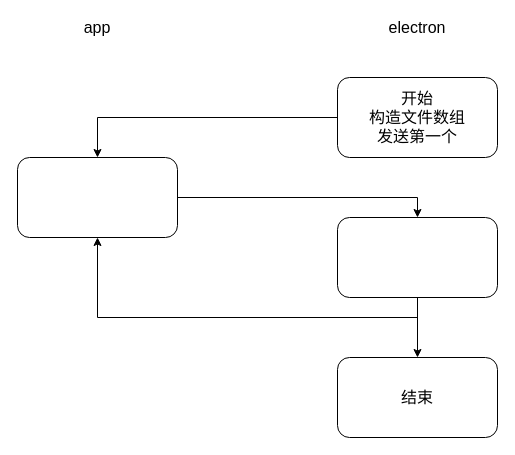
Some shapes in this 515 by 455 pixel diagram are drawn without their labels. The shapes that lost their labels are listed below. From the top down, each one's centre as x and y in pixels, then its label:
point (97, 197): 储存 发消息next
point (417, 257): 检查还有需要发送的
